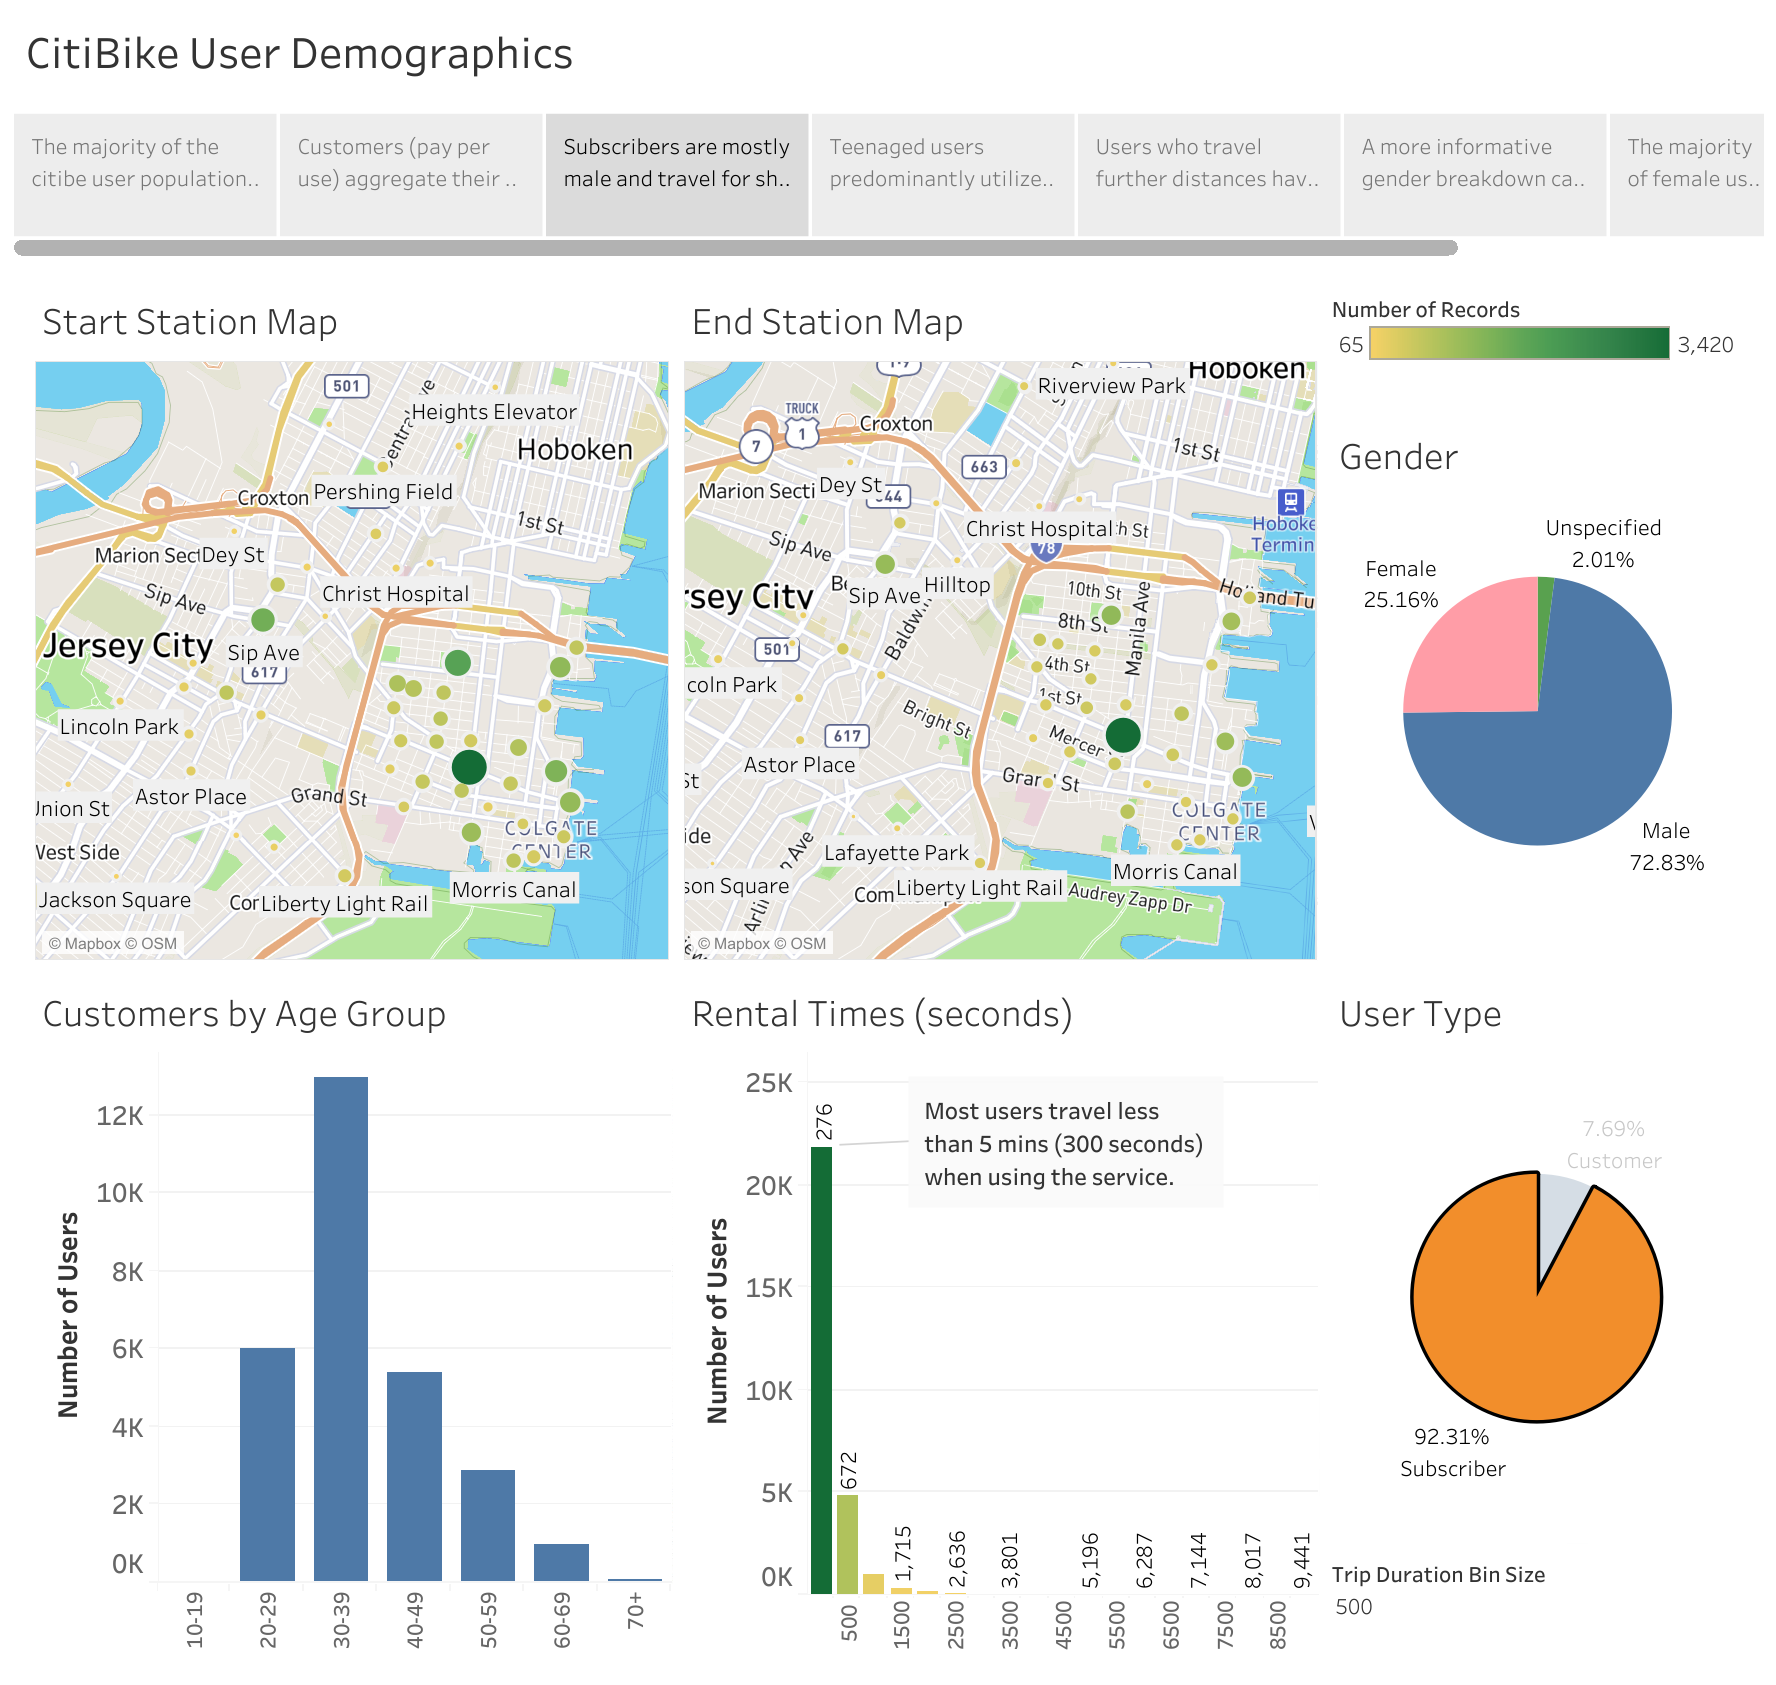

This screenshot's page, from the dashboard's own definition file:
{"tool":"tableau","page":{"name":"Station DB","canvas":[1000,1000],"units":"permille","ordinal":2},"visuals":[{"type":"worksheet","title":"Start Station Map","mark":"Automatic","rows":["start station latitude"],"cols":["start station longitude"],"box":[6.2,9.6,399.5,490.4]},{"type":"worksheet","title":"End Station Map","mark":"Automatic","rows":["end station latitude"],"cols":["end station longitude"],"box":[405.7,9.6,399.5,490.4]},{"type":"legend","title":"Start Station Map","param":"[federated.1djbkvf0iddfvb16h6xlh0xldu7f].[sum:Number of Records:qk]","box":[805.3,9.6,188.5,92.5]},{"type":"worksheet","title":"Gender","mark":"Pie","box":[805.3,102.2,188.5,358.2]},{"type":"worksheet","title":"Customers by Age Group","mark":"Bar","rows":["Number of Records"],"cols":["Age (bin)"],"box":[6.2,500,399.5,490.4]},{"type":"worksheet","title":"Rental Times","mark":"Automatic","rows":["Number of Records"],"cols":["Tripduration (bin)"],"box":[405.7,500,399.5,490.4]},{"type":"worksheet","title":"User Type","mark":"Pie","box":[805.3,500,188.5,399]},{"type":"parameter","param":"[Parameters].[Parameter 1]","box":[805.3,899,188.5,90.2]}]}

Visuals, with their boxes on the dashboard's canvas, which has no fixed pixel size, in thousandths of its width and height (x1, y1, x2, y2). These are canvas units, not pixel positions in the 1776x1685 screenshot, which may show the page scaled, cropped or inside an application window:
"Start Station Map" worksheet: pyautogui.locateOnScreen(6, 10, 406, 500)
"End Station Map" worksheet: pyautogui.locateOnScreen(406, 10, 805, 500)
"Start Station Map" legend: pyautogui.locateOnScreen(805, 10, 994, 102)
"Gender" worksheet (Pie marks): pyautogui.locateOnScreen(805, 102, 994, 460)
"Customers by Age Group" worksheet (Bar marks): pyautogui.locateOnScreen(6, 500, 406, 990)
"Rental Times" worksheet: pyautogui.locateOnScreen(406, 500, 805, 990)
"User Type" worksheet (Pie marks): pyautogui.locateOnScreen(805, 500, 994, 899)
parameter: pyautogui.locateOnScreen(805, 899, 994, 989)
